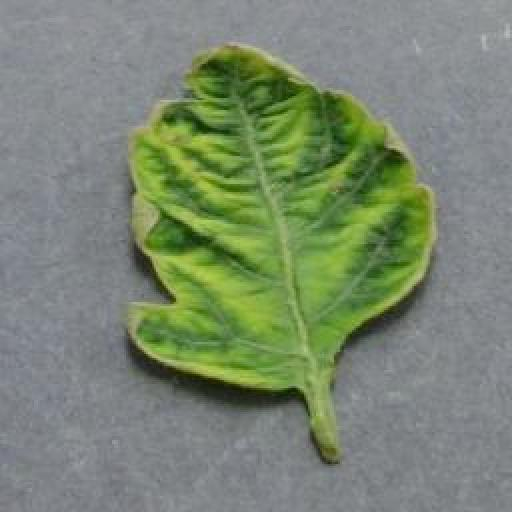disease_tomato: (126, 40, 438, 398)
